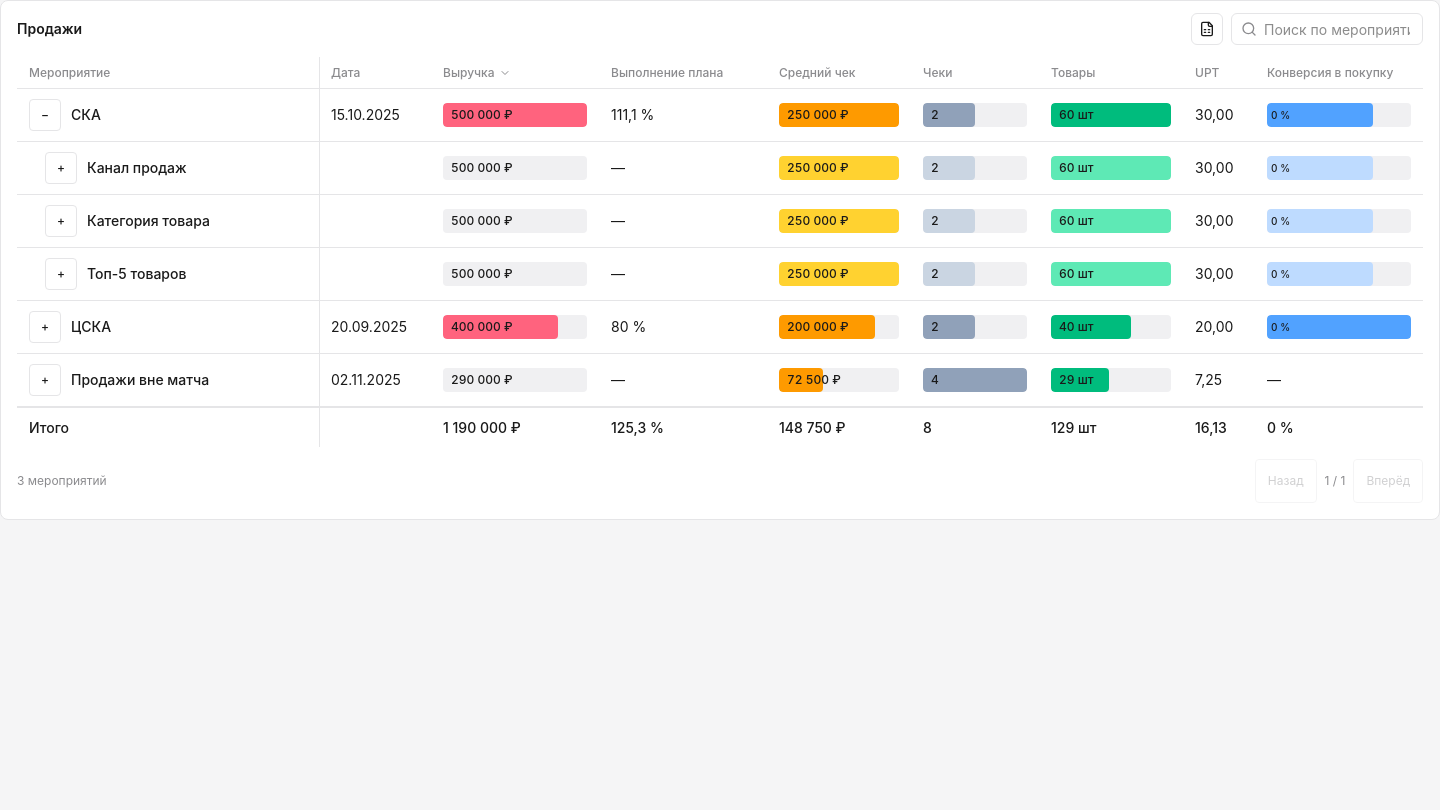
MerchMatchSalesTable drill-down › expanding «Топ-5 товаров» lists ranked SKUs as siblings, not under category
The width and height of the screenshot is (1440, 810).
Click the button "+" next to "Топ-5 товаров": x=61, y=274 x1=45 y1=258 x2=77 y2=290
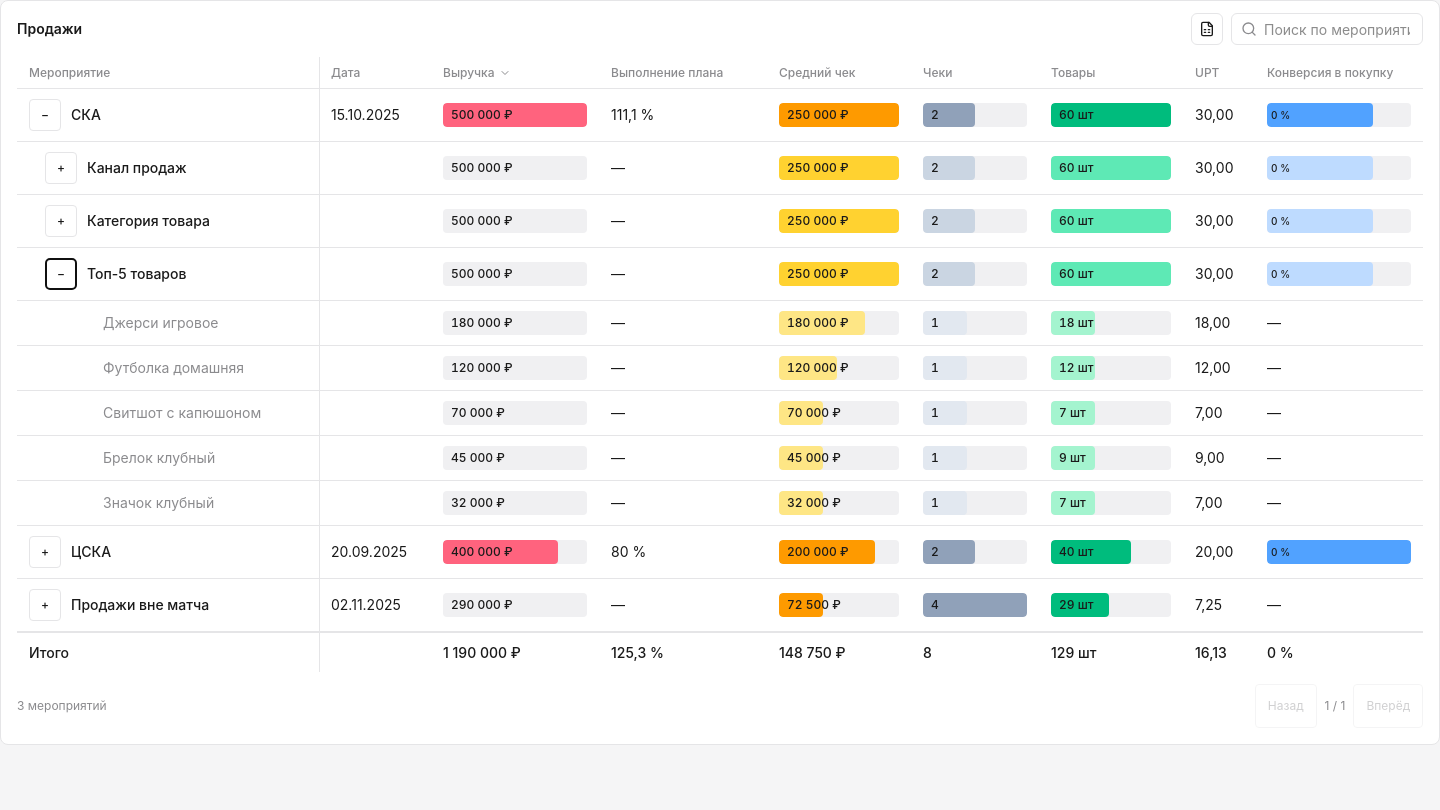
Now the text "Джерси игровое" is shown, box x1=103 y1=313 x2=218 y2=333
Now the text "Футболка домашняя" is shown, box x1=103 y1=358 x2=244 y2=378
Now the text "Свитшот с капюшоном" is shown, box x1=103 y1=403 x2=261 y2=423
